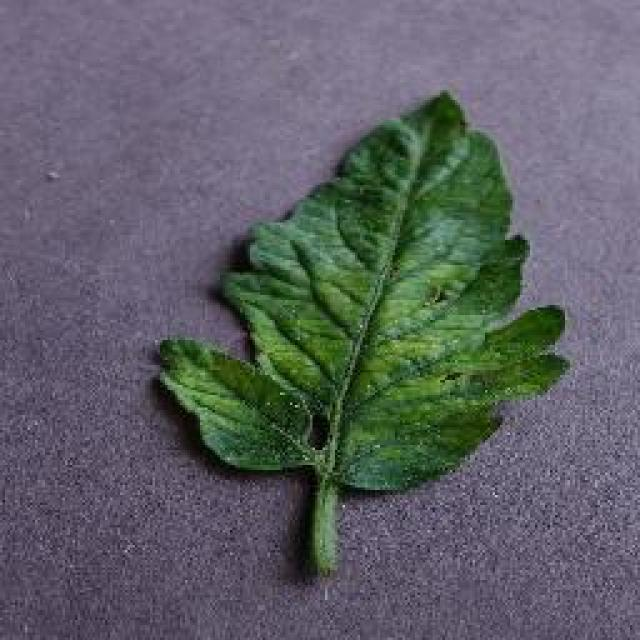Tomato___Tomato_mosaic_virus: (160, 92, 565, 572)
